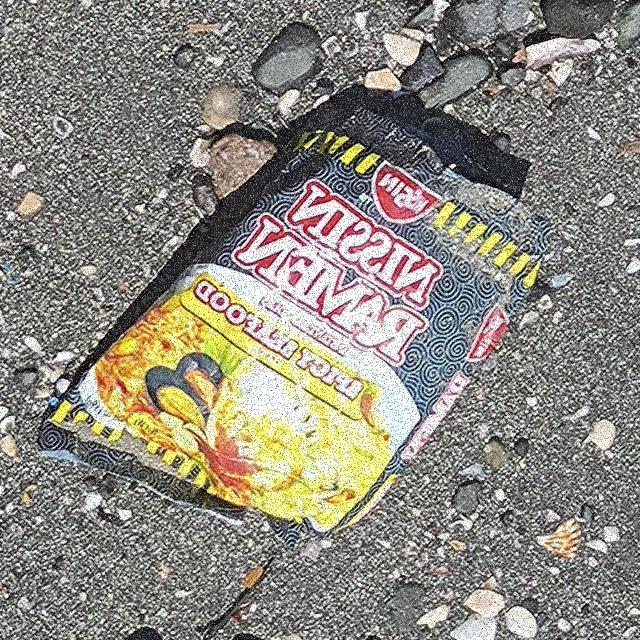plastic_waste: (37, 100, 559, 556)
